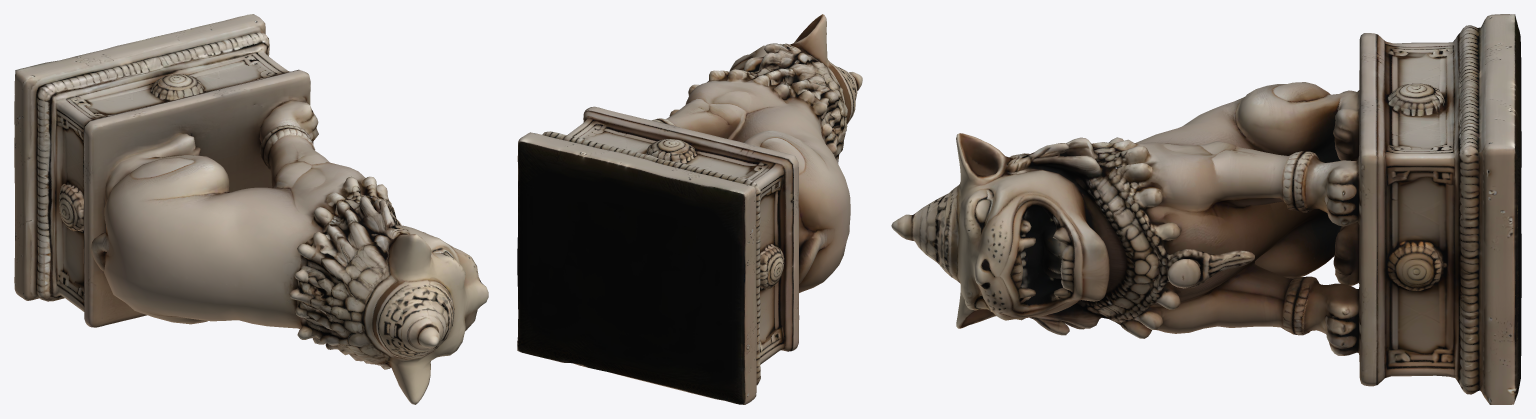
Rendered from tripo_convert_ace51141-1923-4dea-9a4c-094578ffe75d.fbx.
The picture shows the model from 3 angles, left to right: view 1: azimuth 30°, elevation 25°; view 2: azimuth 150°, elevation 25°; view 3: azimuth 270°, elevation 25°; orthographic projection. The views are drawn at different scales.
Visible parts, largest first — view 1: tripo_node_ace51141; view 2: tripo_node_ace51141; view 3: tripo_node_ace51141.
Part boxes in pixels (x1=…): tripo_node_ace51141: x1=14, y1=14, x2=488, y2=404; tripo_node_ace51141: x1=517, y1=14, x2=862, y2=404; tripo_node_ace51141: x1=891, y1=14, x2=1521, y2=404.
Size of the model in its own units: 0.5093 by 0.4501 by 0.9967.
1 material, 1 textured.
